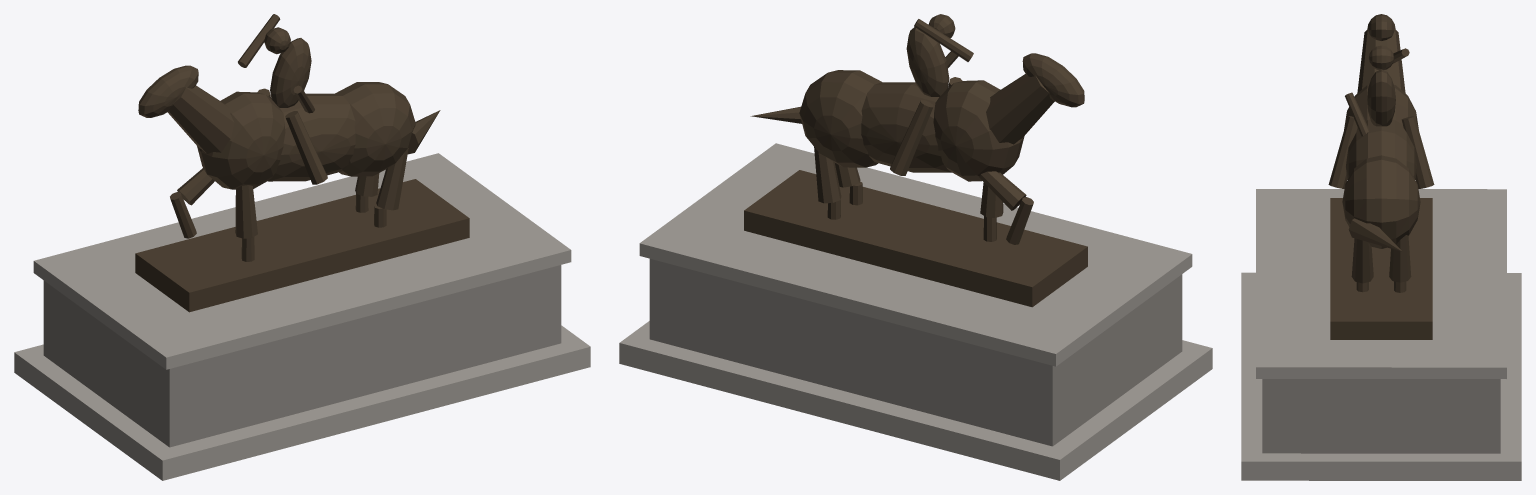
File: physical_energy_statue.glb
3 views of the same model, side by side, from view 1: azimuth 30°, elevation 25°; view 2: azimuth 150°, elevation 25°; view 3: azimuth 270°, elevation 25° (orthographic). The views are drawn at different scales.
Size of the model in its own units: 5.5 by 4.36 by 3.3.
